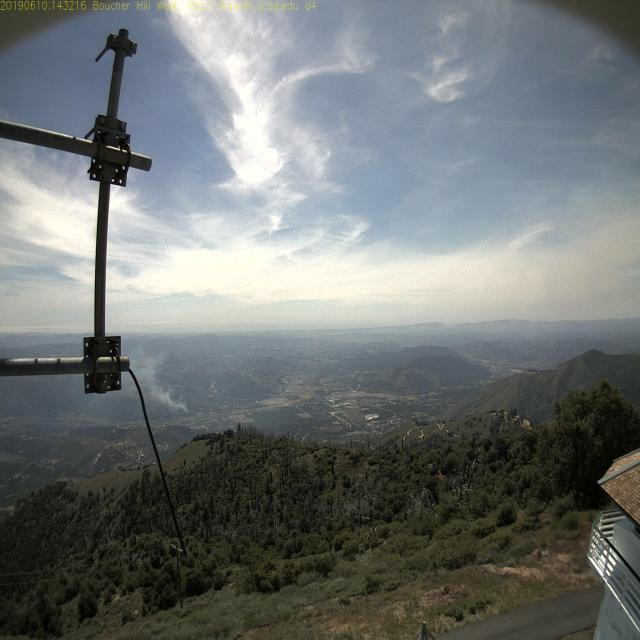smoke: (173, 390, 197, 425)
